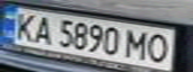0: (103, 25, 124, 56)
5: (51, 17, 75, 48)
8: (69, 20, 90, 52)
9: (84, 21, 106, 54)
A: (30, 13, 57, 46)
K: (6, 10, 42, 42)
M: (124, 27, 151, 61)
O: (145, 31, 175, 64)
